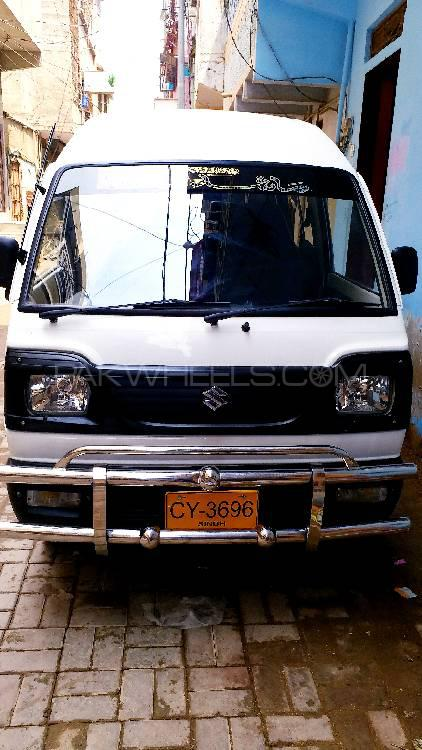license plate: (163, 489, 259, 529)
